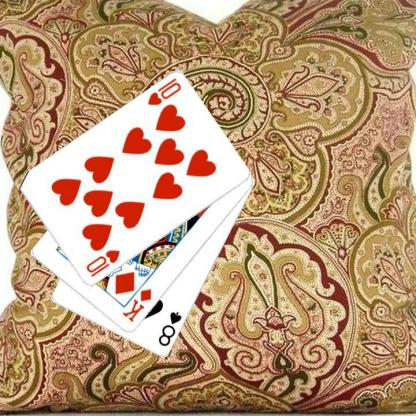10H: (144, 76, 182, 108), (84, 247, 122, 278)
8S: (156, 309, 183, 349)
KD: (120, 286, 153, 324)
